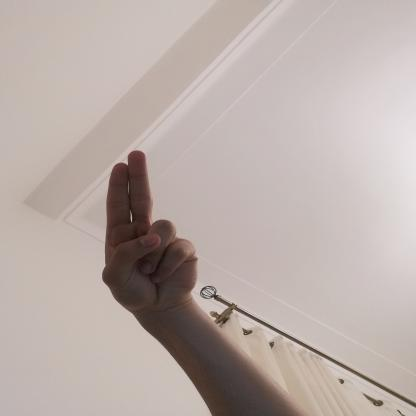TA: (84, 138, 210, 322)
